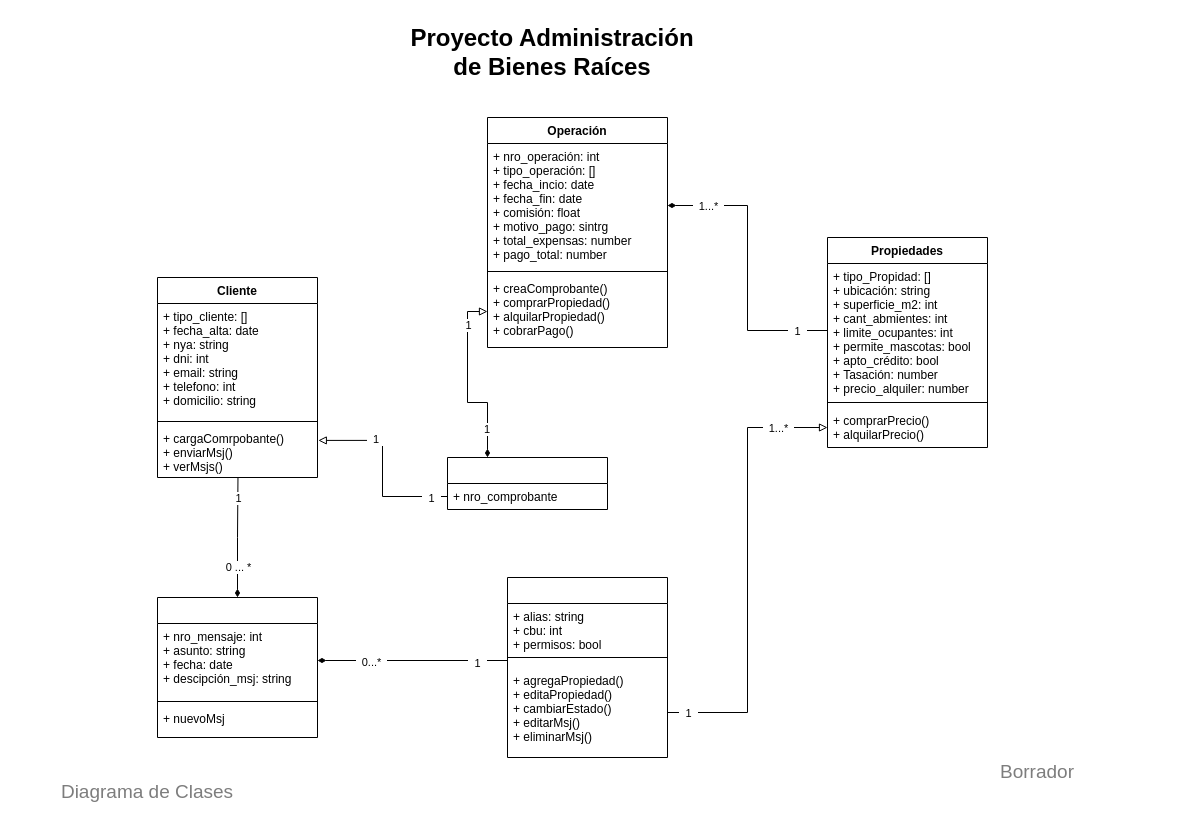
The diagram is 1184 pixels wide and 834 high, and some of its shapes have lost their labels. The shapes that lost their labels are listed below. From the top down, each one's box as (x1, y1, x2, y2) in pixels, then its label:
(446, 456, 608, 510): Comprabante_pago
(156, 596, 318, 738): Mensajes
(506, 576, 668, 758): Admin Inmobiliario
